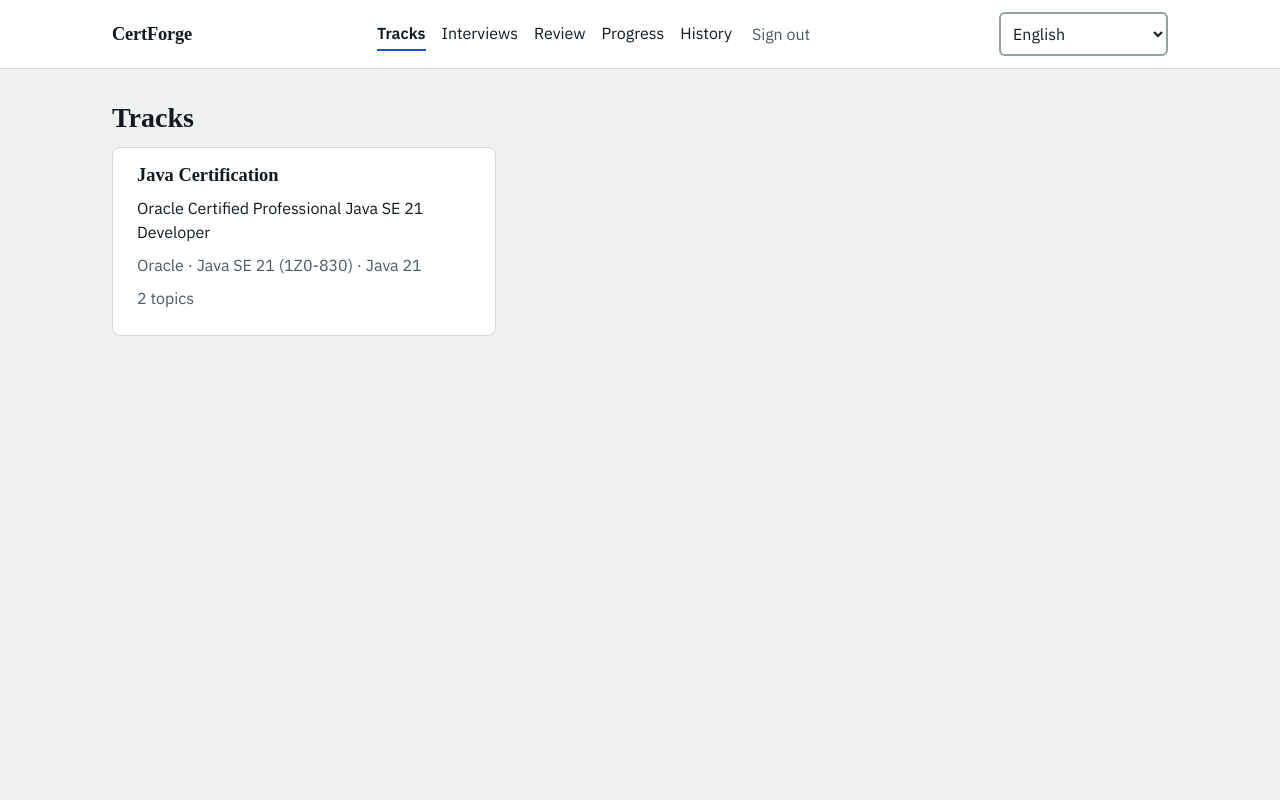
Test: session handling › signs out through the server and forgets everything
Click the button "Sign out". click: (781, 34)
box: [748,18,814,50]
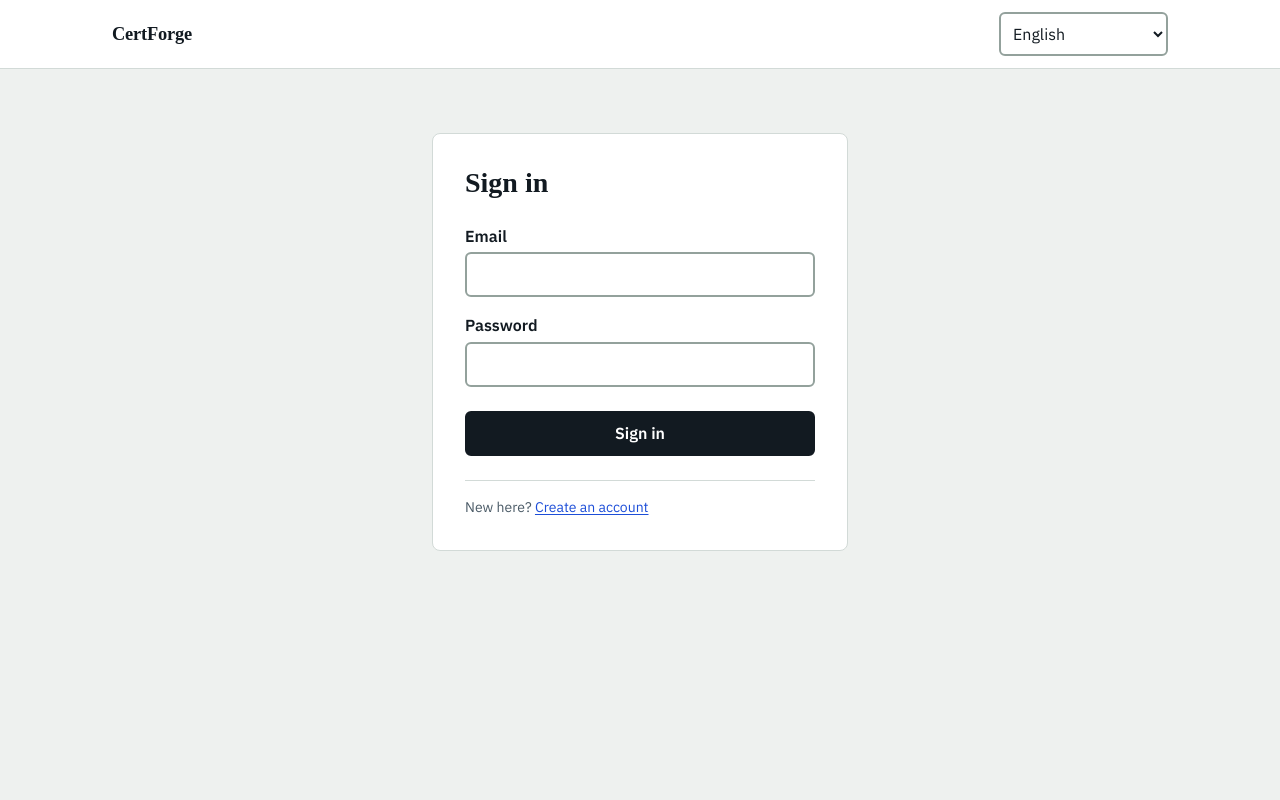
Now the heading "Sign in" is shown, box [465,167,548,198]
